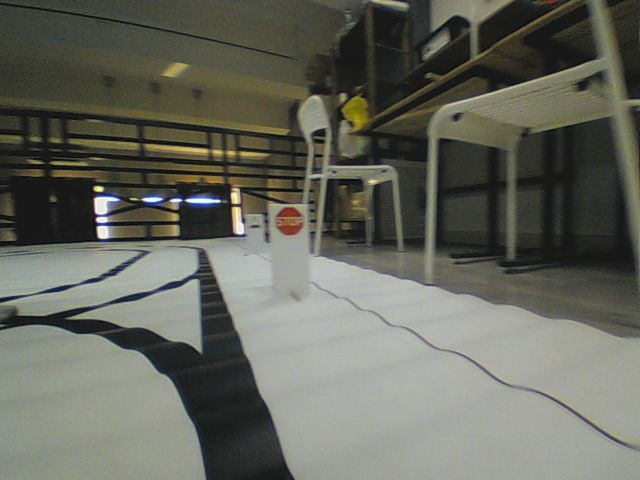Stop: (273, 205, 305, 236)
